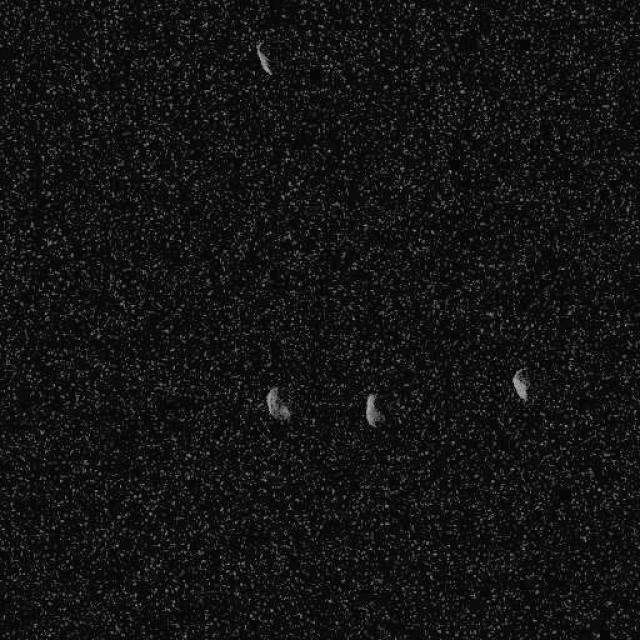D2: (264, 385, 290, 423), (364, 392, 385, 428), (511, 366, 530, 400), (254, 41, 272, 75)
